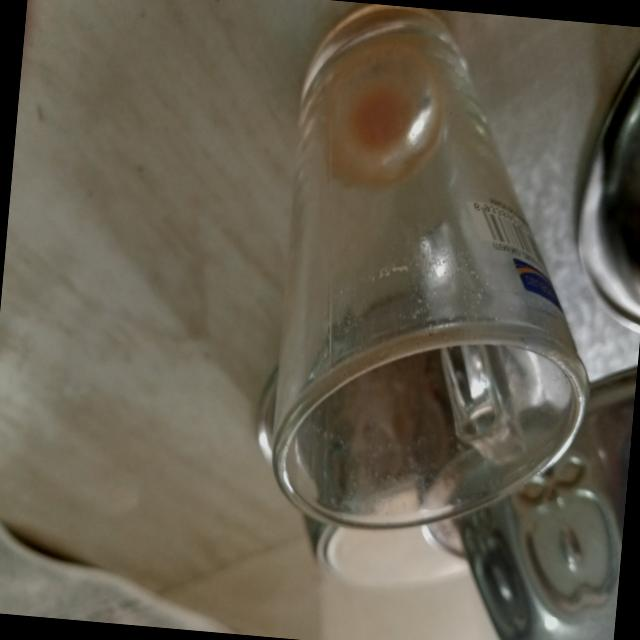glass-VX4N: (260, 0, 625, 550)
